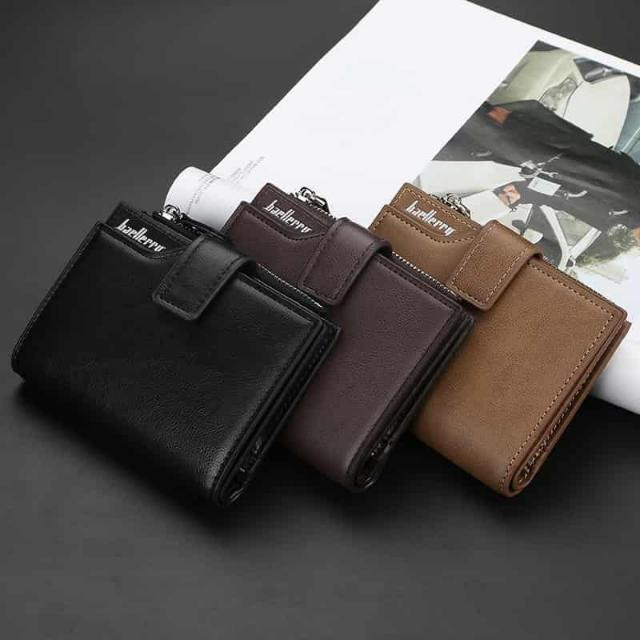wallet: (12, 199, 342, 511), (380, 180, 630, 494)
